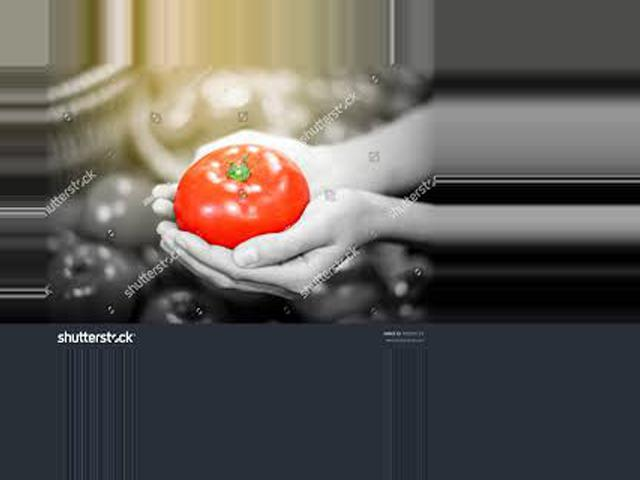tomato: (174, 144, 310, 248)
